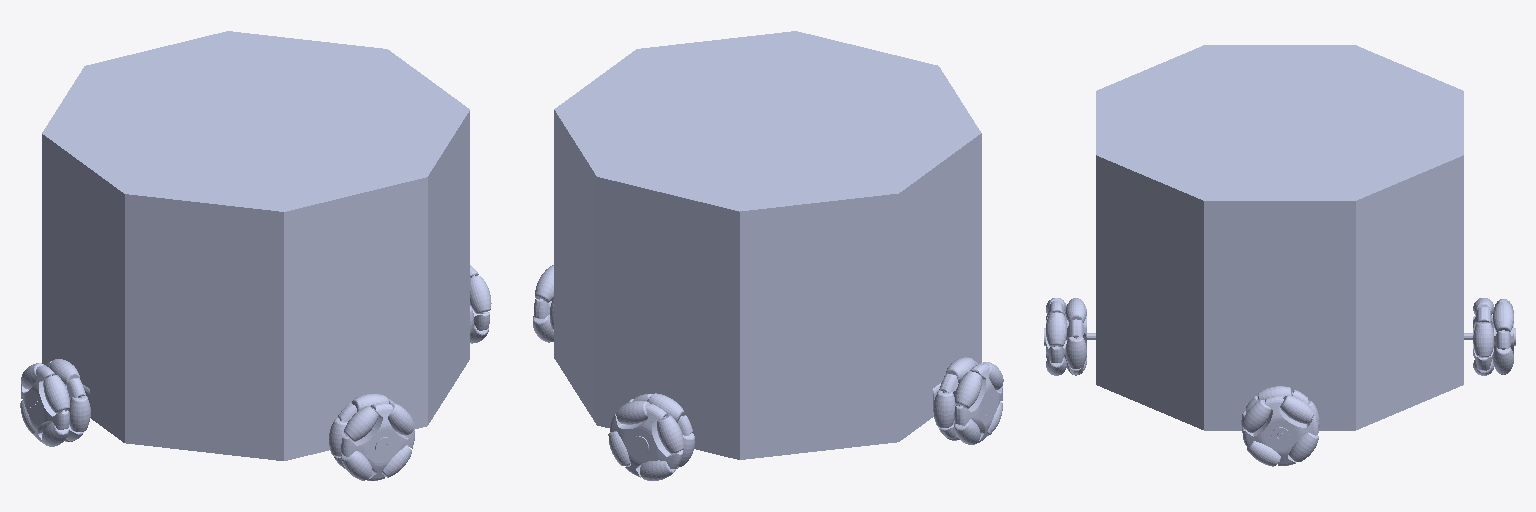
robot.urdf — Robot:
<?xml version="1.0" encoding="utf-8"?>
<!-- This URDF was automatically created by SolidWorks to URDF Exporter! Originally created by Stephen Brawner (brawner@gmail.com) 
     Commit Version: 1.6.0-4-g7f85cfe  Build Version: 1.6.7995.38578
     For more information, please see http://wiki.ros.org/sw_urdf_exporter -->
<robot
  name="Robot">
  <link
    name="base_link">
    <inertial>
      <origin
        xyz="1.0417400568008E-06 1.08229813999827E-11 0.0714774072645423"
        rpy="0 0 0" />
      <mass
        value="1.27136139146919" />
      <inertia
        ixx="0.00397004588054823"
        ixy="-1.850117093916E-13"
        ixz="2.45762393456128E-11"
        iyy="0.00397004588076686"
        iyz="3.05501826093624E-13"
        izz="0.00534776920391384" />
    </inertial>
    <visual>
      <origin
        xyz="0 0 0"
        rpy="0 0 0" />
      <geometry>
        <mesh
          filename="package://Robot/meshes/base_link.STL" />
      </geometry>
      <material
        name="">
        <color
          rgba="0.792156862745098 0.819607843137255 0.933333333333333 1" />
      </material>
    </visual>
    <collision>
      <origin
        xyz="0 0 0"
        rpy="0 0 0" />
      <geometry>
        <mesh
          filename="package://Robot/meshes/base_link.STL" />
      </geometry>
    </collision>
  </link>
  <link
    name="back_wheel">
    <inertial>
      <origin
        xyz="-1.75542808067419E-09 -4.890175708816E-09 0.00926636601840403"
        rpy="0 0 0" />
      <mass
        value="0.0126216164739426" />
      <inertia
        ixx="1.17679303458279E-06"
        ixy="-3.16062792439822E-14"
        ixz="2.05720262624783E-13"
        iyy="1.17679295787663E-06"
        iyz="-7.38438787771429E-14"
        izz="1.71166372145335E-06" />
    </inertial>
    <visual>
      <origin
        xyz="0 0 0"
        rpy="0 0 0" />
      <geometry>
        <mesh
          filename="package://Robot/meshes/back_wheel.STL" />
      </geometry>
      <material
        name="">
        <color
          rgba="0.792156862745098 0.819607843137255 0.933333333333333 1" />
      </material>
    </visual>
    <collision>
      <origin
        xyz="0 0 0"
        rpy="0 0 0" />
      <geometry>
        <mesh
          filename="package://Robot/meshes/back_wheel.STL" />
      </geometry>
    </collision>
  </link>
  <joint
    name="backwheel"
    type="continuous">
    <origin
      xyz="-0.105 -0.00025 0.005"
      rpy="-1.5708 0 -1.5708" />
    <parent
      link="base_link" />
    <child
      link="back_wheel" />
    <axis
      xyz="0 0 -1" />
    <limit
      effort="10"
      velocity="30" />
    <dynamics
      damping="0.1"
      friction="0.1" />
  </joint>
  <link
    name="right_wheel">
    <inertial>
      <origin
        xyz="-5.19170240131928E-09 -2.93530445782952E-09 -0.00973363513048742"
        rpy="0 0 0" />
      <mass
        value="0.0126216058829943" />
      <inertia
        ixx="1.17679227558527E-06"
        ixy="1.51797154272566E-14"
        ixz="3.44100087485271E-13"
        iyy="1.17679178791192E-06"
        iyz="-6.03862210894553E-14"
        izz="1.7116620763106E-06" />
    </inertial>
    <visual>
      <origin
        xyz="0 0 0"
        rpy="0 0 0" />
      <geometry>
        <mesh
          filename="package://Robot/meshes/right_wheel.STL" />
      </geometry>
      <material
        name="">
        <color
          rgba="0.792156862745098 0.819607843137255 0.933333333333333 1" />
      </material>
    </visual>
    <collision>
      <origin
        xyz="0 0 0"
        rpy="0 0 0" />
      <geometry>
        <mesh
          filename="package://Robot/meshes/right_wheel.STL" />
      </geometry>
    </collision>
  </link>
  <joint
    name="rightwheel"
    type="continuous">
    <origin
      xyz="0.00025 0.105 0.005"
      rpy="-1.5708 0 0" />
    <parent
      link="base_link" />
    <child
      link="right_wheel" />
    <axis
      xyz="0 0 1" />
    <limit
      effort="10"
      velocity="30" />
    <dynamics
      damping="0.1"
      friction="0.1" />
  </joint>
  <link
    name="front_wheel">
    <inertial>
      <origin
        xyz="-4.18124887491267E-09 -2.68489067090094E-09 -0.00973363398240126"
        rpy="0 0 0" />
      <mass
        value="0.0126216170924234" />
      <inertia
        ixx="1.17679300152403E-06"
        ixy="-3.23627230233793E-14"
        ixz="1.0854249038264E-13"
        iyy="1.17679303114236E-06"
        iyz="-1.69035987730949E-13"
        izz="1.71166373991957E-06" />
    </inertial>
    <visual>
      <origin
        xyz="0 0 0"
        rpy="0 0 0" />
      <geometry>
        <mesh
          filename="package://Robot/meshes/front_wheel.STL" />
      </geometry>
      <material
        name="">
        <color
          rgba="0.792156862745098 0.819607843137255 0.933333333333333 1" />
      </material>
    </visual>
    <collision>
      <origin
        xyz="0 0 0"
        rpy="0 0 0" />
      <geometry>
        <mesh
          filename="package://Robot/meshes/front_wheel.STL" />
      </geometry>
    </collision>
  </link>
  <joint
    name="frontwheel"
    type="continuous">
    <origin
      xyz="0.105 0.00025 0.005"
      rpy="-1.5708 0 -1.5708" />
    <parent
      link="base_link" />
    <child
      link="front_wheel" />
    <axis
      xyz="0 0 1" />
    <limit
      effort="10"
      velocity="30" />
    <dynamics
      damping="0.1"
      friction="0.1" />
  </joint>
  <link
    name="left_wheel">
    <inertial>
      <origin
        xyz="-2.99799188252514E-09 7.22680369713569E-09 0.00973363592864985"
        rpy="0 0 0" />
      <mass
        value="0.0126216020866321" />
      <inertia
        ixx="1.17679176943093E-06"
        ixy="7.65690623706089E-14"
        ixz="-1.29618974856075E-13"
        iyy="1.17679167865913E-06"
        iyz="-2.06297203114994E-13"
        izz="1.71166156539549E-06" />
    </inertial>
    <visual>
      <origin
        xyz="0 0 0"
        rpy="0 0 0" />
      <geometry>
        <mesh
          filename="package://Robot/meshes/left_wheel.STL" />
      </geometry>
      <material
        name="">
        <color
          rgba="0.792156862745098 0.819607843137255 0.933333333333333 1" />
      </material>
    </visual>
    <collision>
      <origin
        xyz="0 0 0"
        rpy="0 0 0" />
      <geometry>
        <mesh
          filename="package://Robot/meshes/left_wheel.STL" />
      </geometry>
    </collision>
  </link>
  <joint
    name="leftwheel"
    type="continuous">
    <origin
      xyz="0.00025 -0.105 0.005"
      rpy="-1.5708 0 0" />
    <parent
      link="base_link" />
    <child
      link="left_wheel" />
    <axis
      xyz="0 0 -1" />
    <limit
      effort="10"
      velocity="30" />
    <dynamics
      damping="0.1"
      friction="0.1" />
  </joint>
</robot>

--- Render facts (derived) ---
Views: 3 orthographic renders of the robot side by side, from view 1: azimuth 30°, elevation 25°; view 2: azimuth 150°, elevation 25°; view 3: azimuth 270°, elevation 25°.
Robot: Robot — 5 links, 4 joints (4 continuous); root link base_link; default pose: every joint at zero.
Links seen in each view (by area): view 1: base_link, left_wheel, back_wheel, front_wheel; view 2: base_link, right_wheel, back_wheel, front_wheel; view 3: base_link, front_wheel, left_wheel, right_wheel.
Boxes of the visible links, bbox=[...] form: base_link: bbox=[33, 31, 469, 460]; left_wheel: bbox=[329, 394, 414, 480]; back_wheel: bbox=[20, 359, 90, 446]; front_wheel: bbox=[470, 265, 491, 343]; base_link: bbox=[554, 31, 990, 459]; right_wheel: bbox=[608, 393, 694, 480]; back_wheel: bbox=[933, 357, 1003, 444]; front_wheel: bbox=[533, 265, 553, 342]; base_link: bbox=[1087, 45, 1472, 438]; front_wheel: bbox=[1241, 386, 1319, 466]; left_wheel: bbox=[1044, 298, 1086, 375]; right_wheel: bbox=[1473, 298, 1515, 375].
Size in the robot's own frame: 0.21 by 0.21 by 0.1225 metres.
5 mesh visuals loaded from 5 distinct referenced files (5 binary STL).
